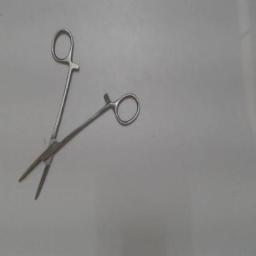Mayo Needle Holder: (14, 23, 142, 207)
